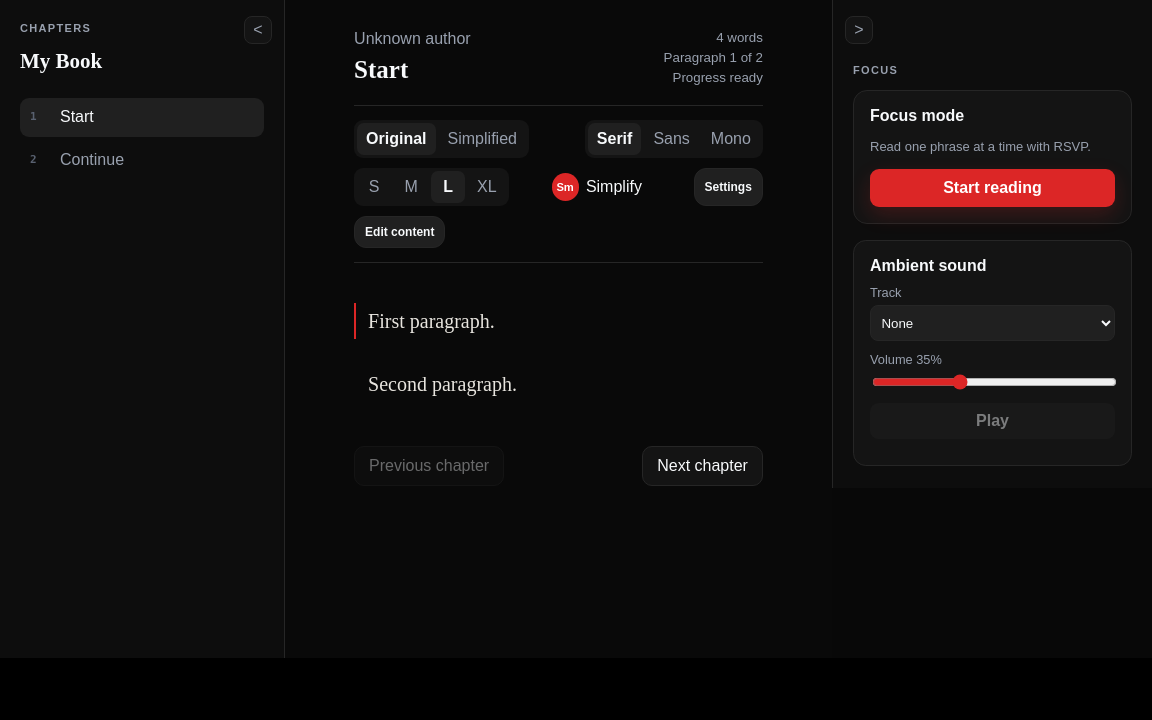
Test case: reader desktop shell › loads three semantic panels and collapses both sidebars accessibly
Expected: the heading "My Book" is shown, top-left (20, 49), bottom-right (102, 73)
Expected: the element "Chapters" is shown, top-left (0, 0), bottom-right (285, 658)
Click the button titled "Collapse chapters" at coordinates (258, 30), box top-left (244, 16), bottom-right (272, 44)
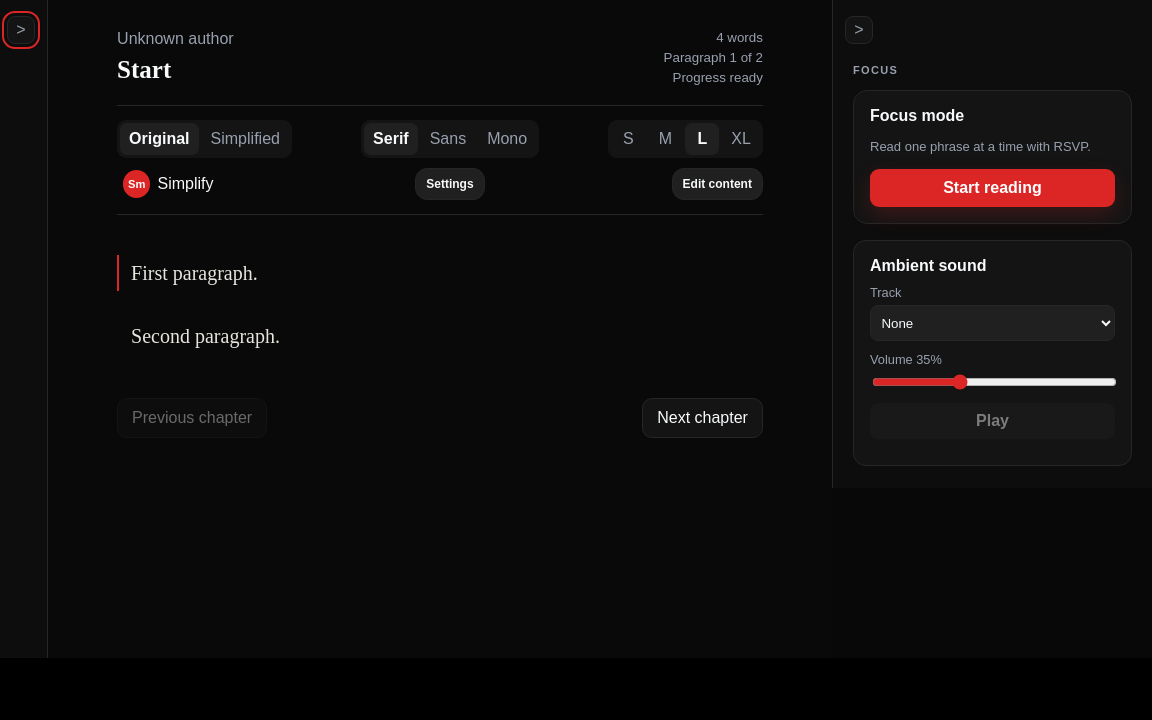
Expected: the 1st button titled "Expand chapters" is collapsed, top-left (7, 16), bottom-right (35, 44)
Click the 2nd button titled "Collapse focus" at coordinates (859, 30), box top-left (845, 16), bottom-right (873, 44)
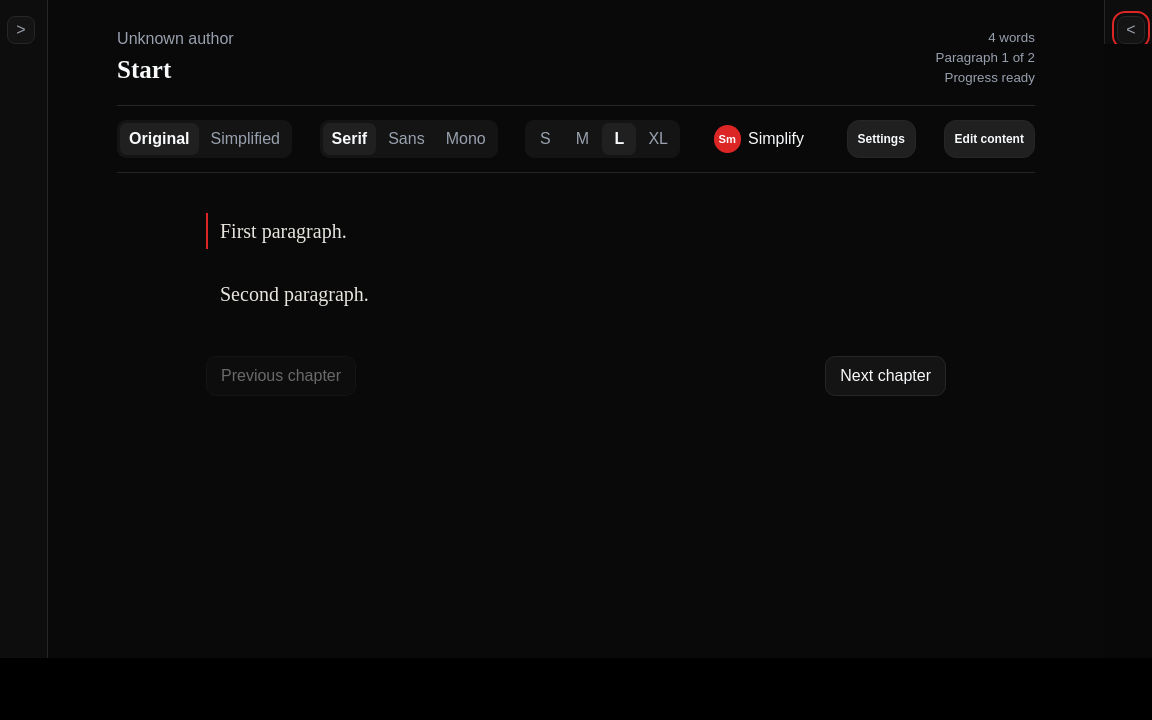
Expected: the button titled "Expand focus" is collapsed, top-left (1117, 16), bottom-right (1145, 44)
